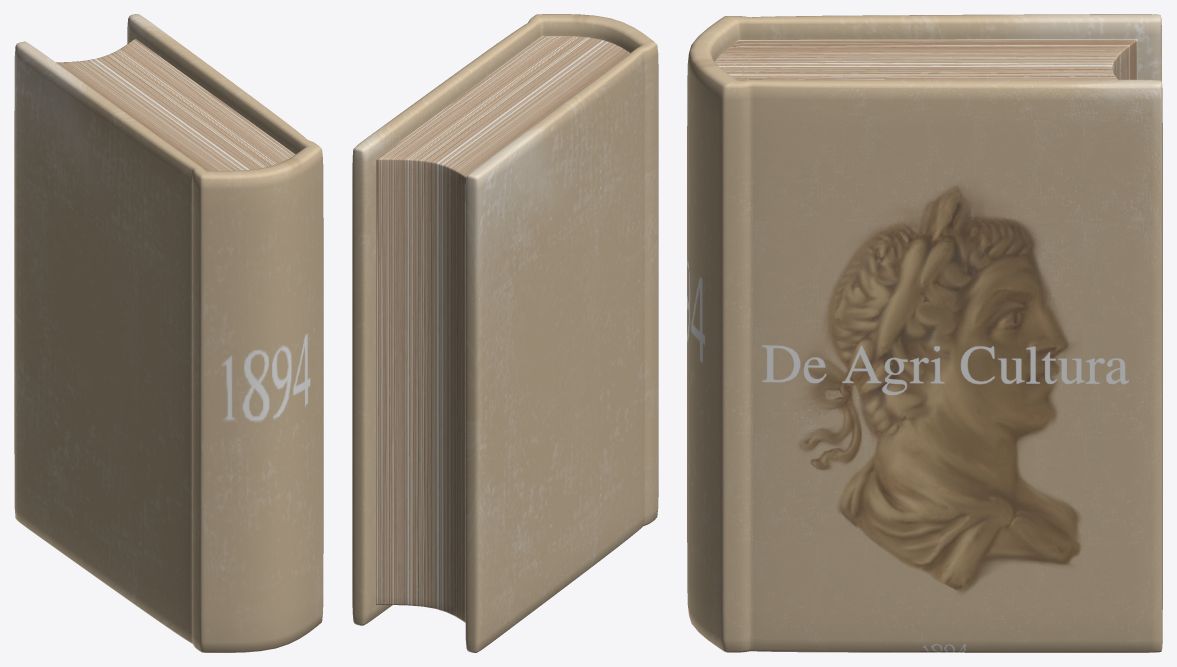
Rendered from book-8.glb.
3 renders of one model, left to right at view 1: azimuth 30°, elevation 25°; view 2: azimuth 150°, elevation 25°; view 3: azimuth 270°, elevation 25°, orthographic. The views are drawn at different scales.
Parts seen in each view (by area): view 1: De agri cultura, Book Pages.008; view 2: De agri cultura, Book Pages.008; view 3: De agri cultura, Book Pages.008.
Boxes of the visible parts, left/top/right/bottom form: De agri cultura: left=14, top=14, right=323, bottom=652; Book Pages.008: left=56, top=38, right=295, bottom=170; De agri cultura: left=352, top=14, right=658, bottom=652; Book Pages.008: left=376, top=36, right=629, bottom=622; De agri cultura: left=687, top=14, right=1162, bottom=652; Book Pages.008: left=715, top=39, right=1137, bottom=79.
Size of the model in its own units: 0.2944 by 1.05 by 0.793.
Materials: 2 (2 with a texture image).
